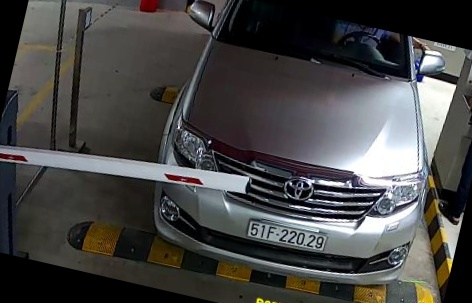plate: (246, 215, 336, 261)
